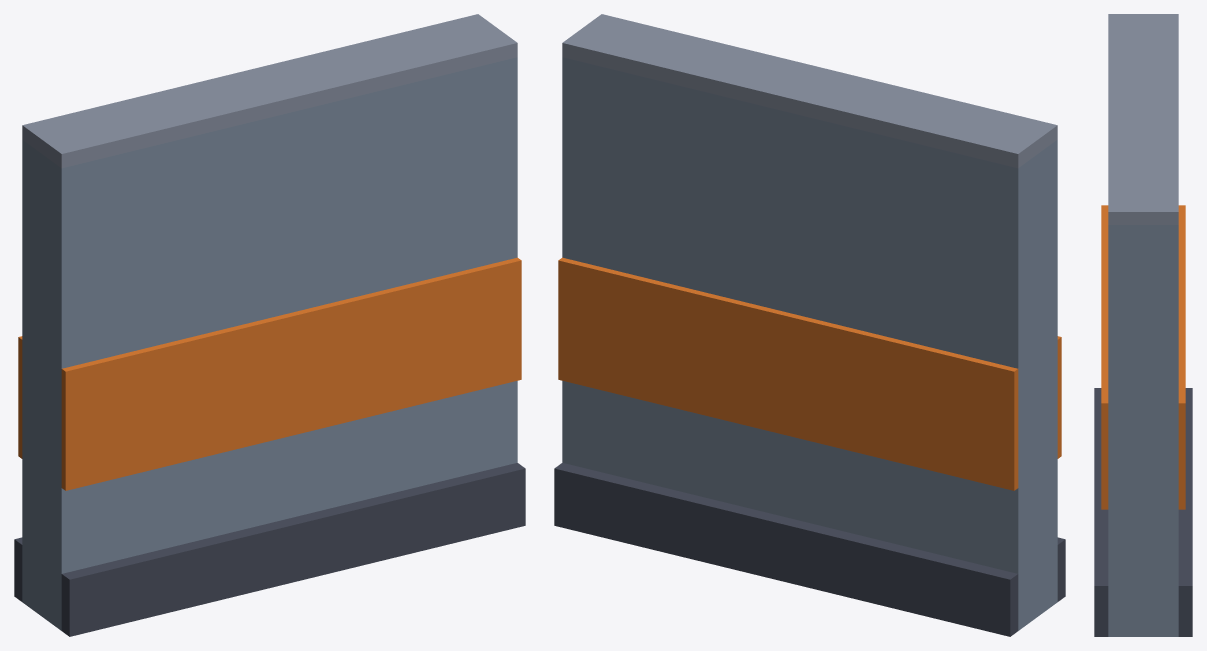
The model's file is partition-full.glb.
3 renders of one model, left to right at view 1: azimuth 30°, elevation 25°; view 2: azimuth 150°, elevation 25°; view 3: azimuth 270°, elevation 25°, orthographic. The views are drawn at different scales.
Visible parts, largest first — view 1: partition-full; view 2: partition-full; view 3: partition-full.
Boxes of the visible parts, box(x1,y1,x2,y2) form: partition-full: box(14, 14, 525, 636); partition-full: box(554, 14, 1065, 636); partition-full: box(1094, 14, 1192, 636).
Bounding box in the file's own units: 1 × 1 × 0.21.
1 material, 1 textured.
